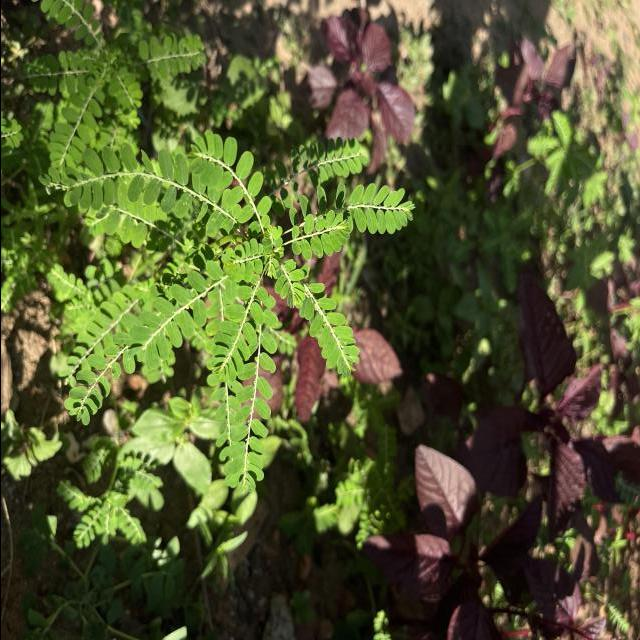Phyllanthus niruri: (61, 140, 186, 220), (225, 314, 278, 496), (122, 270, 218, 368), (184, 128, 272, 231), (210, 282, 268, 388), (299, 282, 361, 381), (348, 181, 417, 237), (289, 208, 351, 260), (220, 238, 266, 283)
